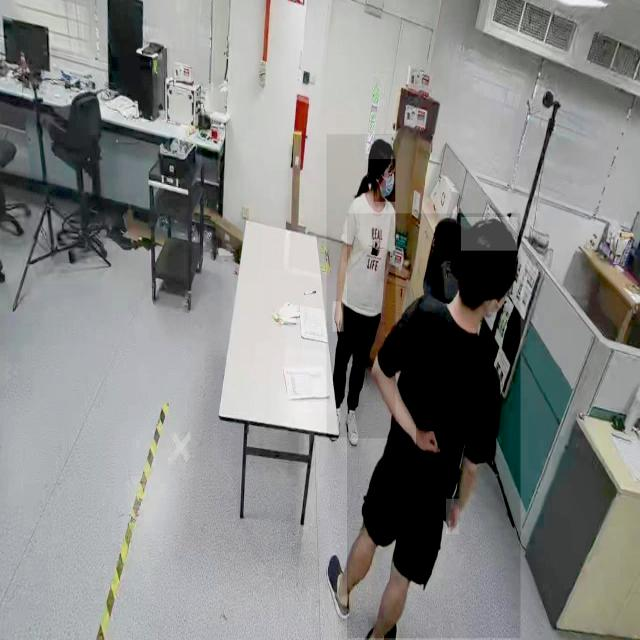face_mask: (374, 159, 396, 202)
hand_noglove: (416, 422, 440, 455), (446, 499, 460, 535), (332, 302, 344, 332)
head_nohelmet: (461, 217, 518, 251), (365, 135, 396, 160)
person: (347, 213, 521, 639), (326, 134, 396, 438)
shoes: (324, 544, 352, 626), (342, 402, 361, 448), (365, 554, 365, 555)
